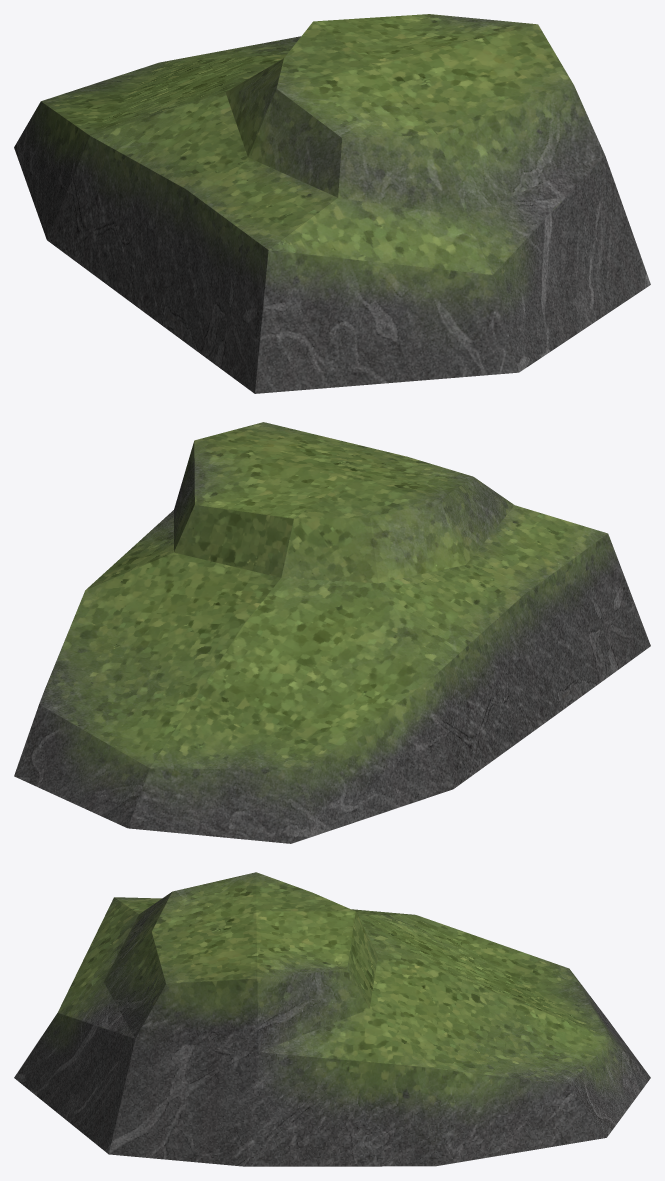
3 views of the same model, one above another, from view 1: azimuth 30°, elevation 25°; view 2: azimuth 150°, elevation 25°; view 3: azimuth 270°, elevation 25° (orthographic). The views are drawn at different scales.
Visible parts, largest first — view 1: 3DObj_Land_3; view 2: 3DObj_Land_3; view 3: 3DObj_Land_3.
Part boxes in pixels (x1=…): 3DObj_Land_3: x1=14, y1=14, x2=650, y2=393; 3DObj_Land_3: x1=14, y1=422, x2=650, y2=843; 3DObj_Land_3: x1=14, y1=872, x2=650, y2=1166.
Size of the model in its own units: 336 by 146 by 508.
1 material, 1 textured.
